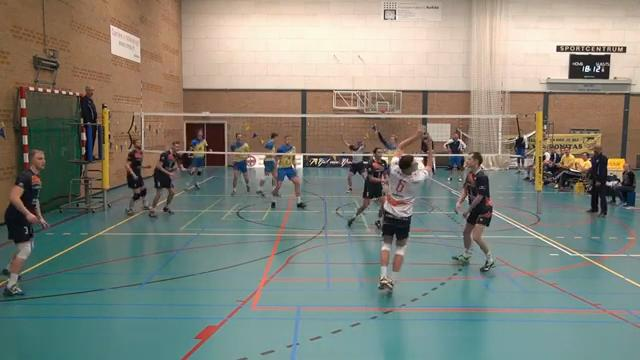Player: (2, 149, 47, 295), (454, 152, 494, 271), (348, 148, 387, 225), (149, 141, 184, 216), (271, 135, 305, 208), (125, 140, 148, 214), (183, 129, 209, 189), (341, 134, 364, 192), (231, 133, 249, 194), (257, 155, 276, 195)
Receive: (375, 125, 432, 296)
